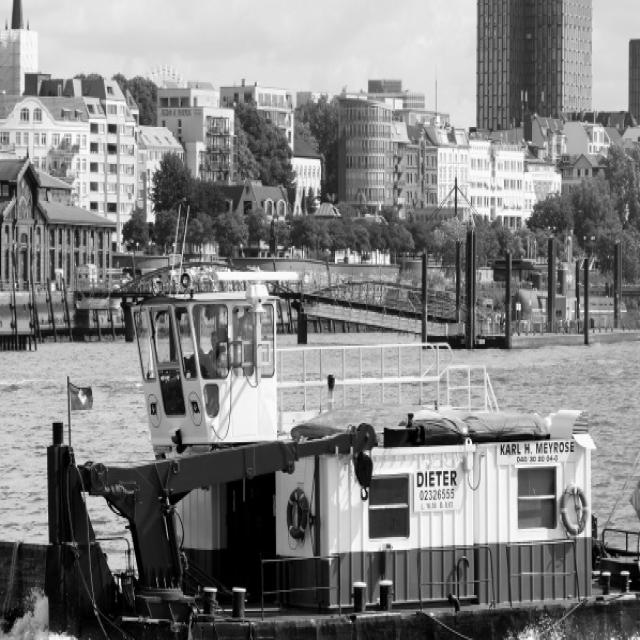tugboat: (1, 263, 640, 640)
